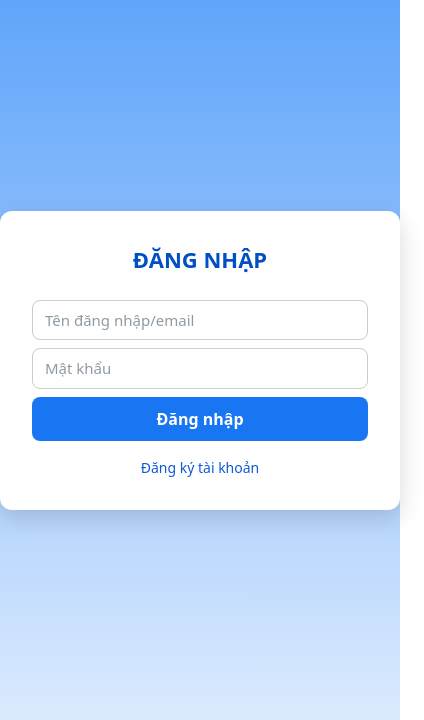
it: Login Integration Test › TC04 - Gọi API khi submit form hợp lệ
Type "admin123" into the field with test id "username-input". click: (200, 320)
box: [32,300,368,340]
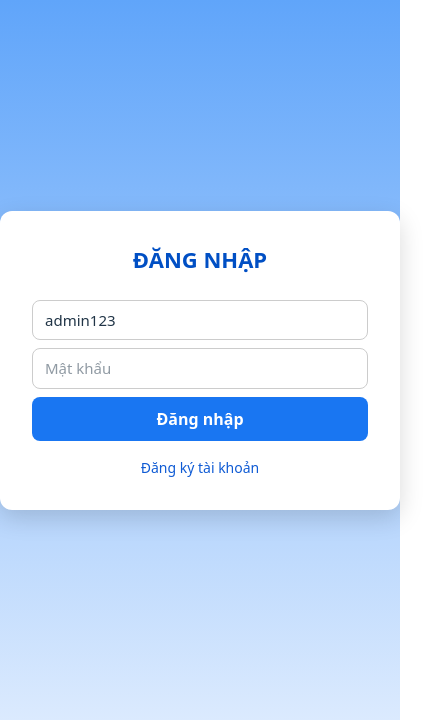
Type "abc123" into the password field with test id "password-input". click: (200, 368)
box: [32,348,368,388]
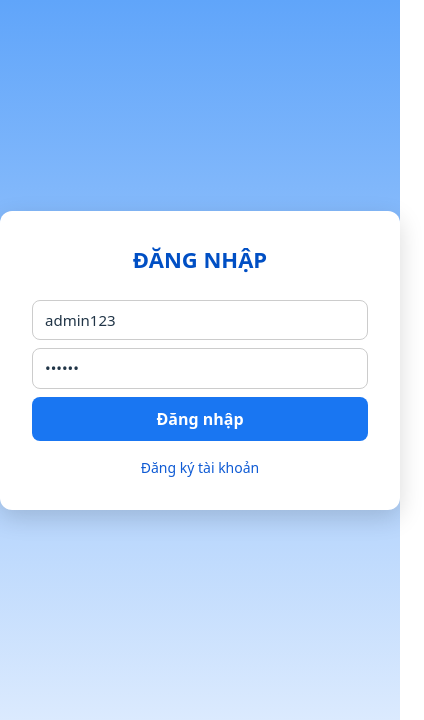
Click the button "Đăng nhập". click: (200, 418)
box: [32,396,368,440]
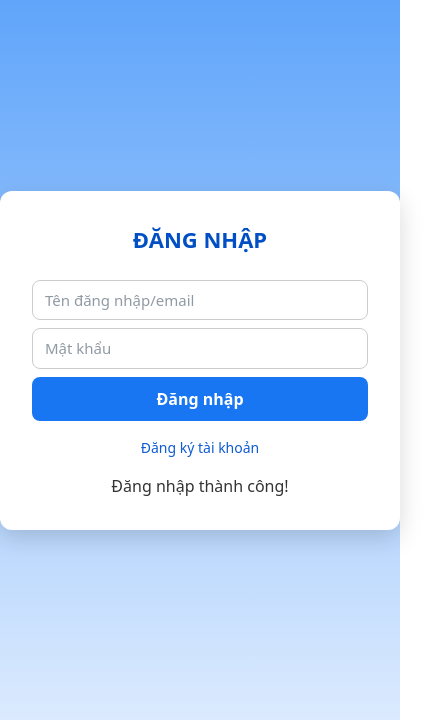
Expected: the text with test id "message" reads "Đăng nhập thành công!", [111,474,289,496]
